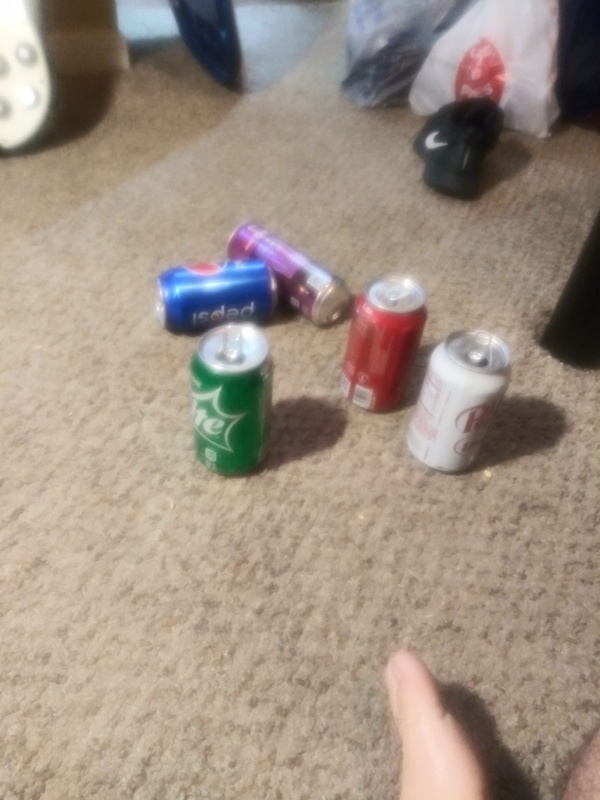can: (401, 326, 515, 475), (187, 315, 277, 478), (224, 217, 351, 331), (334, 274, 430, 415), (149, 258, 281, 333)
